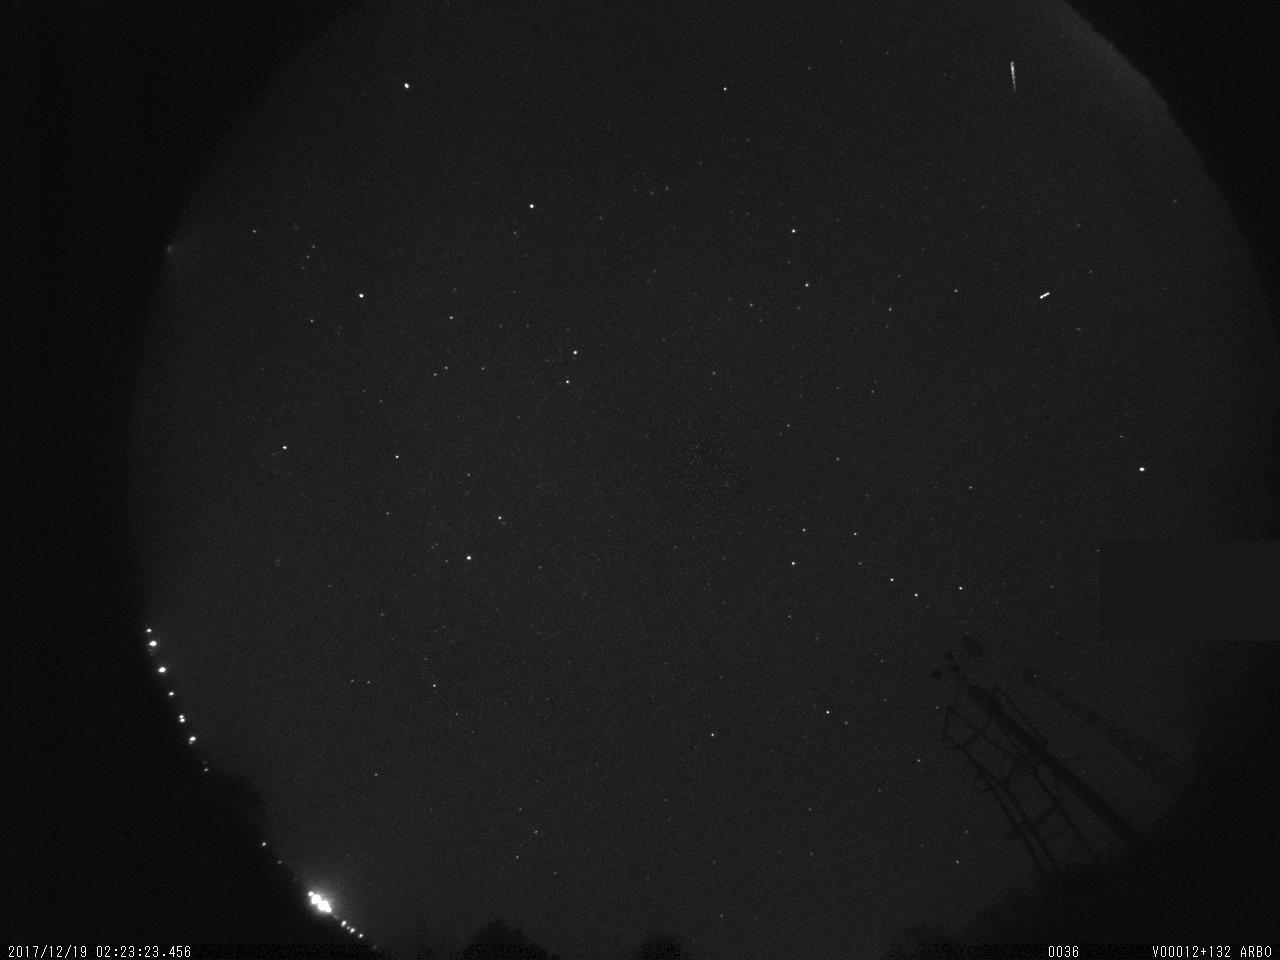meteor: (1008, 57, 1021, 93)
